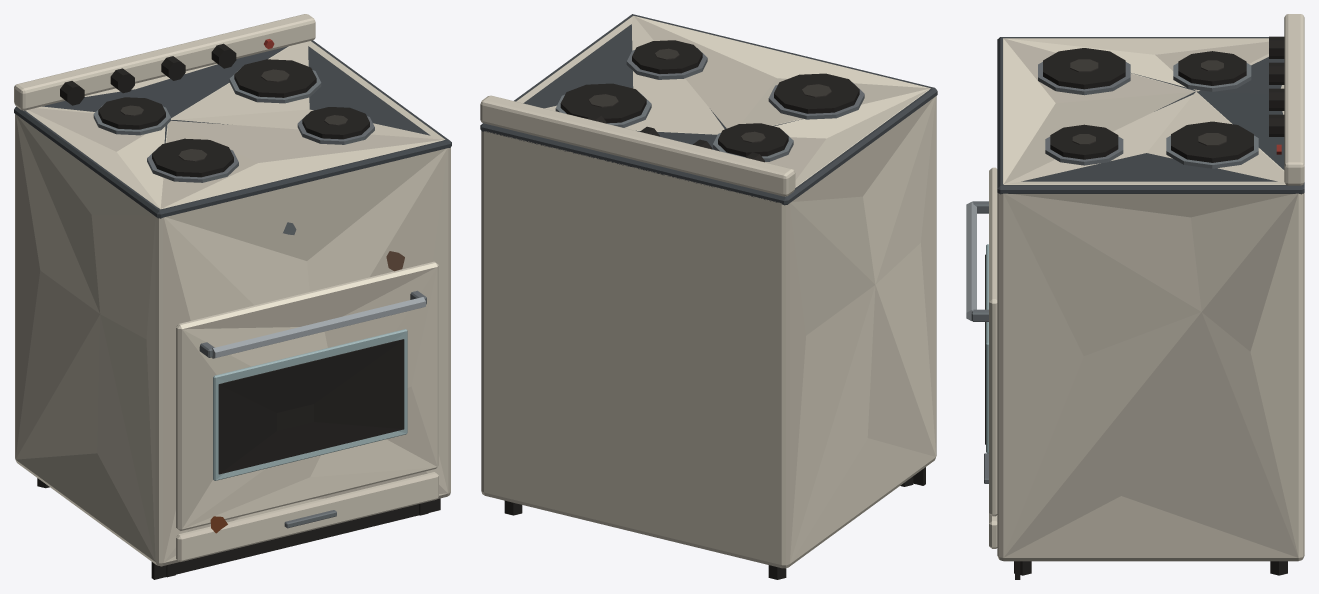
The model's file is stove_cook_elektricheskaya_idle.glb.
The picture shows the model from 3 angles, left to right: view 1: azimuth 30°, elevation 25°; view 2: azimuth 150°, elevation 25°; view 3: azimuth 270°, elevation 25°; orthographic projection. The views are drawn at different scales.
Parts seen in each view (by area): view 1: stove_cook_elektricheskaya_idle; view 2: stove_cook_elektricheskaya_idle; view 3: stove_cook_elektricheskaya_idle.
Part boxes in pixels (x1,y1,x2,y2): stove_cook_elektricheskaya_idle: (14,14,451,579); stove_cook_elektricheskaya_idle: (480,14,937,579); stove_cook_elektricheskaya_idle: (966,14,1304,579).
Size of the model in its own units: 0.7 by 0.9 by 0.6604.
Materials: 1 (1 with a texture image).
